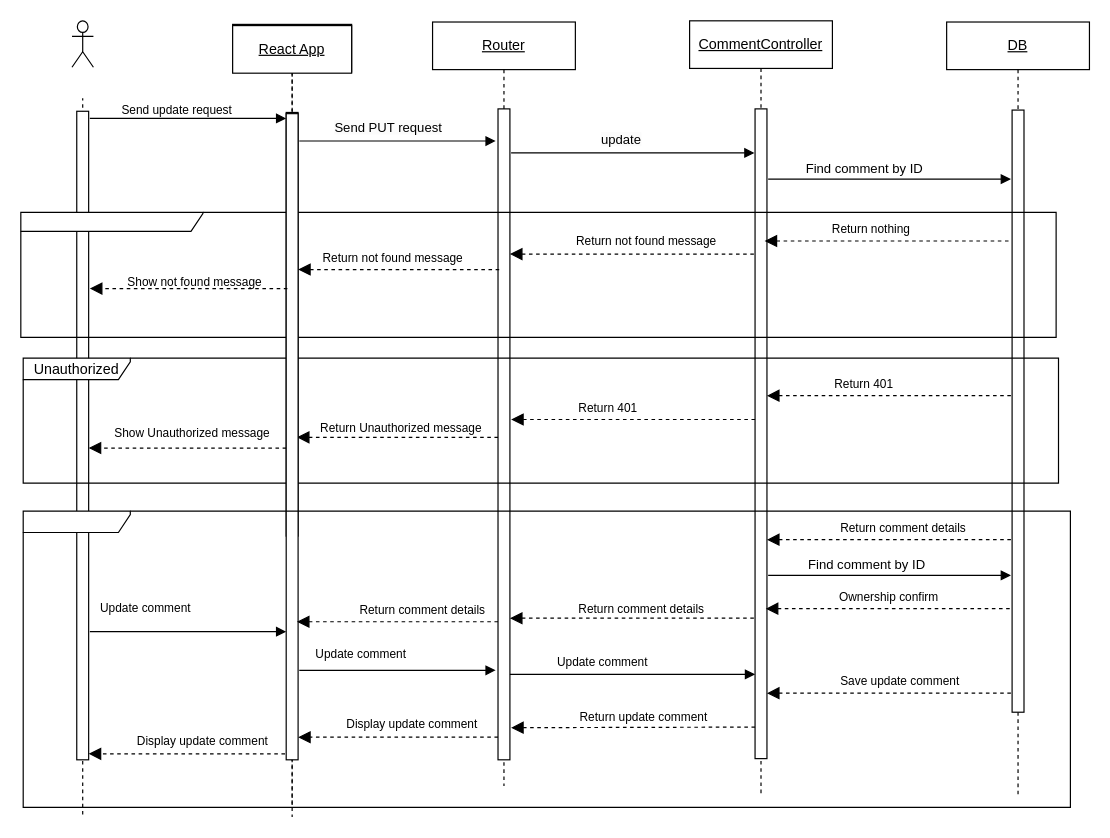
The diagram is 1110 pixels wide and 838 high, and some of its shapes have lost their labels. The box of each missing label's shape, as (x1, y1, x2, y2) in pixels:
Comment not found: (20, 211, 1056, 337)
Success: (22, 510, 1070, 807)
User: (71, 20, 93, 67)
